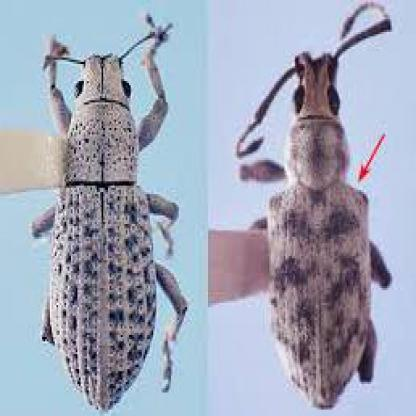ash weevil: (32, 21, 189, 412)
